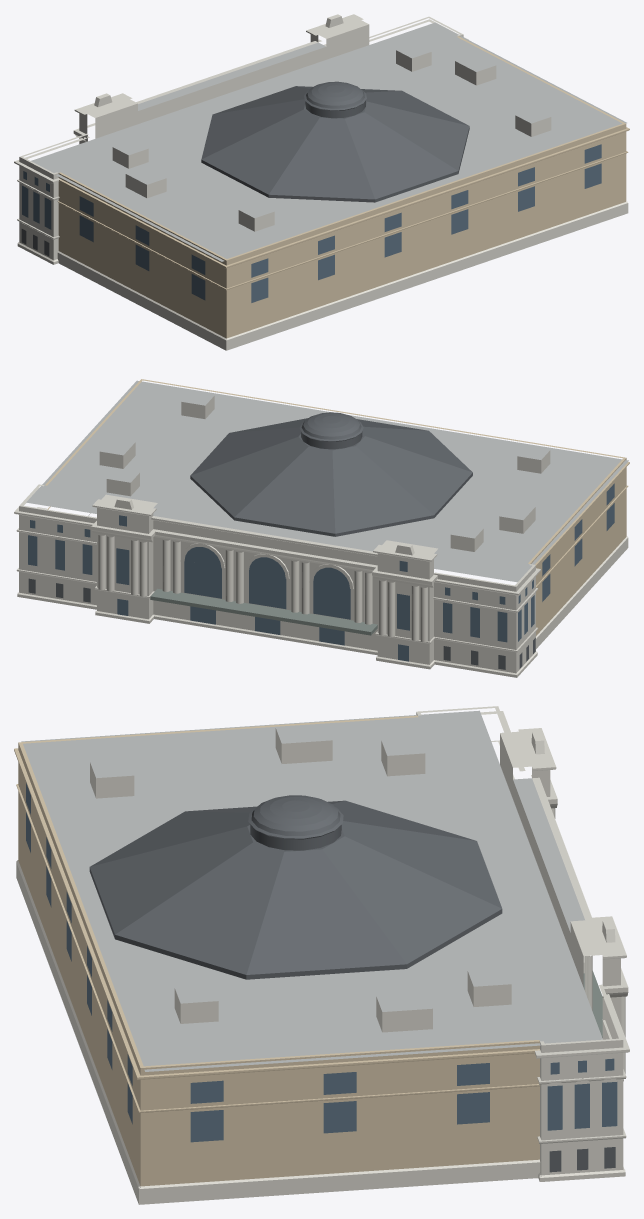
File: detail.glb
3 renders of one model, top to bottom at view 1: azimuth 30°, elevation 25°; view 2: azimuth 150°, elevation 25°; view 3: azimuth 270°, elevation 25°, orthographic. The views are drawn at different scales.
Visible parts, largest first — view 1: bill-graham-civic-auditorium; view 2: bill-graham-civic-auditorium; view 3: bill-graham-civic-auditorium.
Boxes of the visible parts, x1,y1,x2,y2 form: bill-graham-civic-auditorium: (14, 14, 629, 350); bill-graham-civic-auditorium: (14, 379, 629, 677); bill-graham-civic-auditorium: (14, 706, 629, 1204).
Bounding box in the file's own units: 135 × 37.9 × 95.81.
